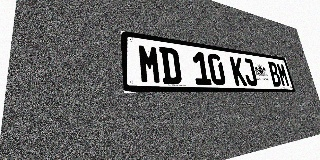0: (207, 53, 226, 85)
1: (191, 51, 212, 85)
B: (267, 61, 282, 87)
D: (159, 47, 182, 84)
J: (241, 58, 258, 86)
K: (229, 56, 247, 86)
M: (137, 44, 162, 84), (276, 62, 290, 87)
